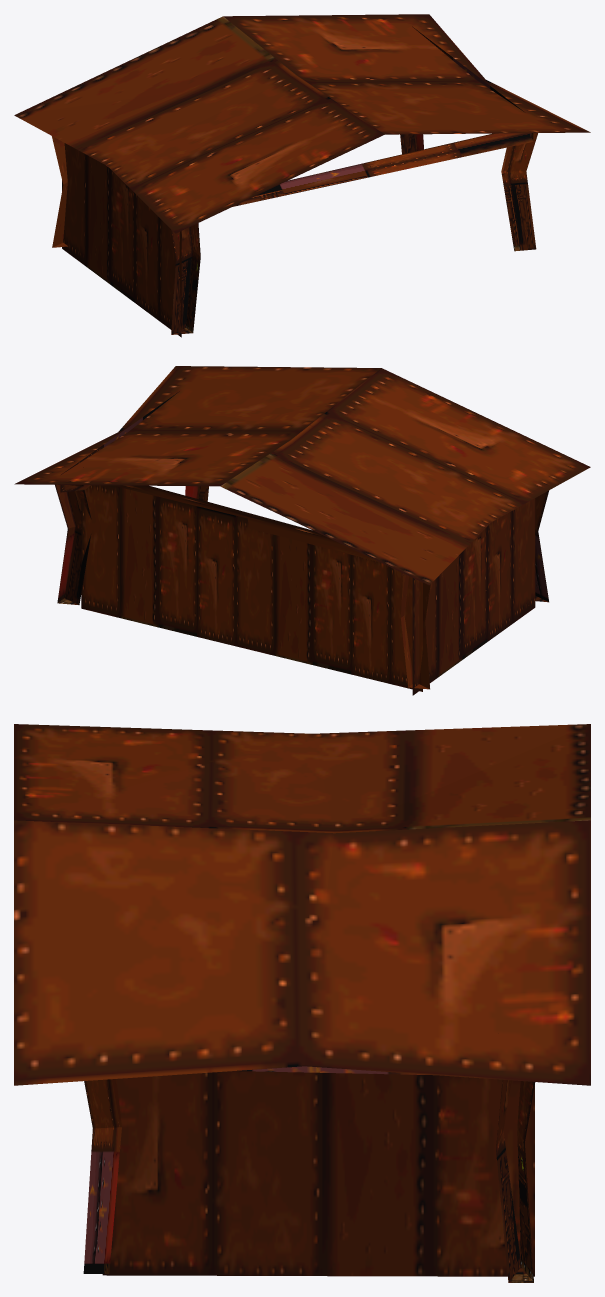
The model's file is Autowerkstadt_1800.glb.
3 views of the same model, one above another, from view 1: azimuth 30°, elevation 25°; view 2: azimuth 150°, elevation 25°; view 3: azimuth 270°, elevation 25° (orthographic). The views are drawn at different scales.
Visible parts, largest first — view 1: pPlaneShape6, pPlaneShape5, pPlaneShape20, pCylinderShape23, pCylinderShape20, pCylinderShape19, pCylinderShape18, pCylinderShape17; view 2: pPlaneShape18, pPlaneShape6, pPlaneShape5, pPlaneShape20, pCylinderShape17, pCylinderShape24, pCylinderShape18, pCylinderShape19, pCylinderShape21; view 3: pPlaneShape5, pPlaneShape19, pPlaneShape6, pCylinderShape20, pCylinderShape17, pCylinderShape21.
Boxes of the visible parts, left/top/right/bottom form: pPlaneShape6: left=14, top=16, right=384, bottom=233; pPlaneShape5: left=223, top=14, right=590, bottom=134; pPlaneShape20: left=62, top=143, right=181, bottom=337; pCylinderShape23: left=233, top=133, right=533, bottom=206; pCylinderShape20: left=501, top=133, right=537, bottom=251; pCylinderShape19: left=171, top=223, right=200, bottom=334; pCylinderShape18: left=52, top=136, right=67, bottom=247; pCylinderShape17: left=400, top=134, right=423, bottom=154; pPlaneShape18: left=81, top=485, right=422, bottom=691; pPlaneShape6: left=220, top=368, right=590, bottom=585; pPlaneShape5: left=14, top=366, right=381, bottom=486; pPlaneShape20: left=412, top=498, right=535, bottom=695; pCylinderShape17: left=55, top=484, right=91, bottom=604; pCylinderShape24: left=83, top=467, right=379, bottom=562; pCylinderShape18: left=401, top=573, right=430, bottom=689; pCylinderShape19: left=535, top=490, right=548, bottom=602; pCylinderShape21: left=60, top=391, right=179, bottom=492; pPlaneShape5: left=14, top=820, right=590, bottom=1085; pPlaneShape19: left=102, top=1071, right=534, bottom=1276; pPlaneShape6: left=14, top=724, right=590, bottom=833; pCylinderShape20: left=83, top=1079, right=121, bottom=1273; pCylinderShape17: left=496, top=1080, right=535, bottom=1282; pCylinderShape21: left=237, top=1066, right=434, bottom=1075.
Bounding box in the file's own units: 1.12 × 0.4577 × 0.7545.
Materials: 13 (13 with a texture image).
